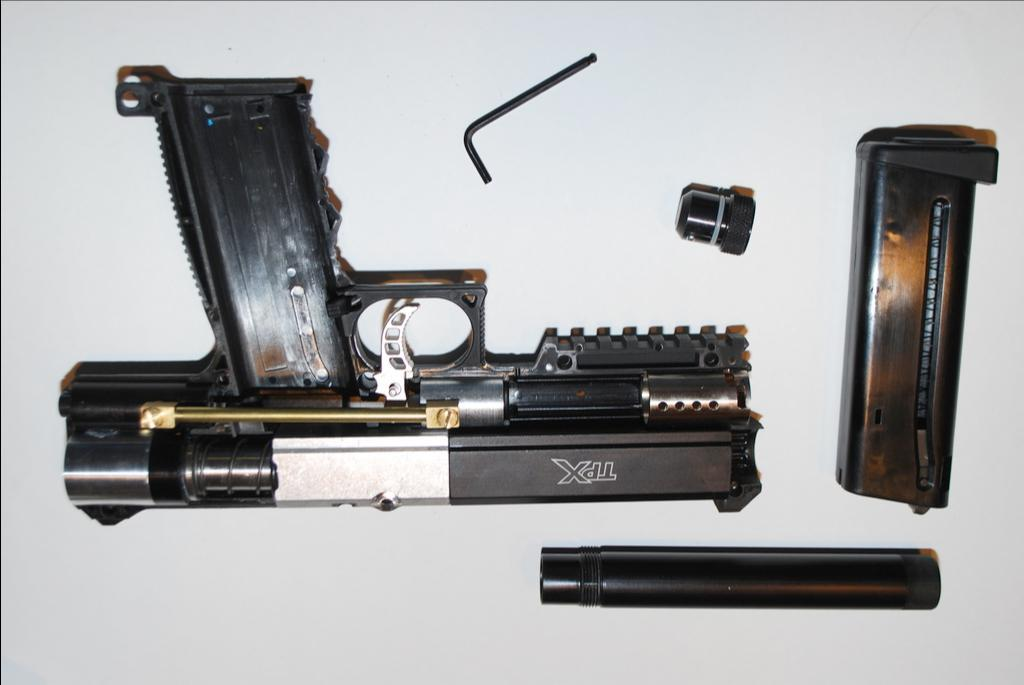gun: (52, 57, 764, 528)
